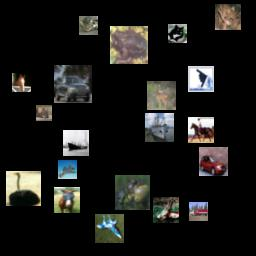airplane: (95, 214, 124, 243), (188, 66, 214, 92), (58, 160, 77, 179)
automobile: (54, 65, 92, 103), (199, 147, 228, 176)
bird: (6, 171, 41, 206)
cat: (79, 16, 98, 35), (168, 24, 187, 43), (36, 105, 52, 121)
deer: (147, 81, 176, 110), (153, 197, 179, 223)
frog: (110, 26, 148, 64), (115, 175, 150, 210), (215, 4, 241, 30)
ship: (145, 113, 174, 142), (63, 130, 89, 156)
truck: (189, 202, 208, 221)
